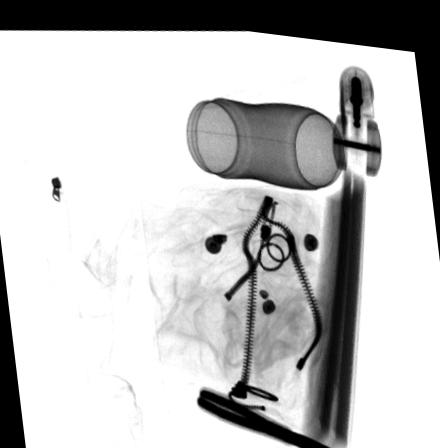Pliers: (193, 378, 352, 448)
